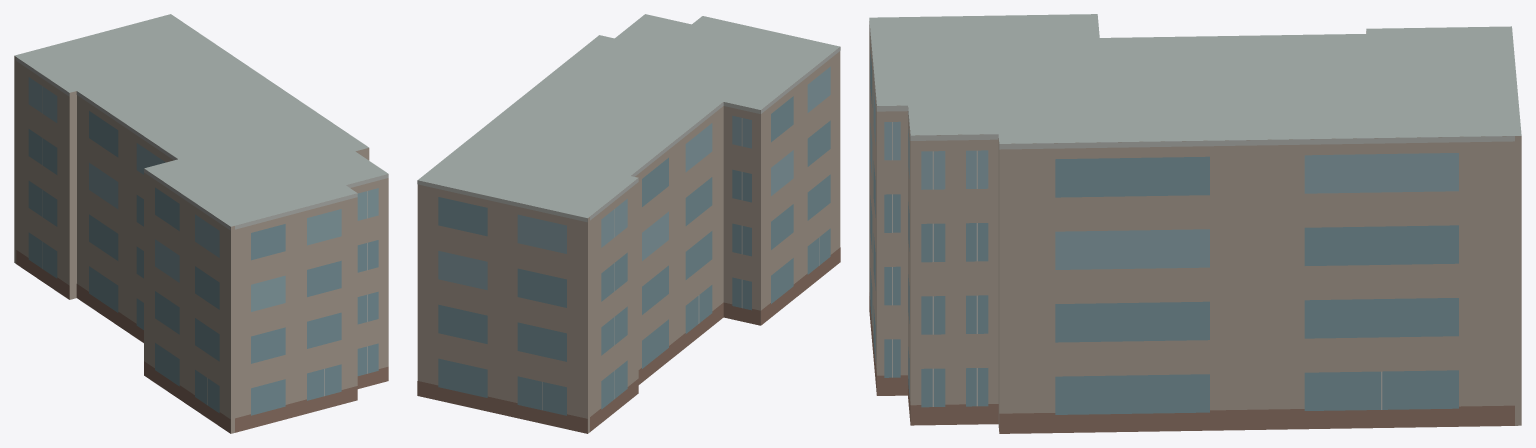
File: survey-upis-32755472.glb
3 renders of one model, left to right at view 1: azimuth 30°, elevation 25°; view 2: azimuth 150°, elevation 25°; view 3: azimuth 270°, elevation 25°, orthographic. The views are drawn at different scales.
Parts seen in each view (by area): view 1: survey-upis-32755472.tmp; view 2: survey-upis-32755472.tmp; view 3: survey-upis-32755472.tmp.
Boxes of the visible parts, x1=… form: survey-upis-32755472.tmp: x1=14, y1=14, x2=388, y2=433; survey-upis-32755472.tmp: x1=417, y1=14, x2=840, y2=433; survey-upis-32755472.tmp: x1=869, y1=14, x2=1521, y2=433.
Bounding box in the file's own units: 12.32 × 12.8 × 26.11.
